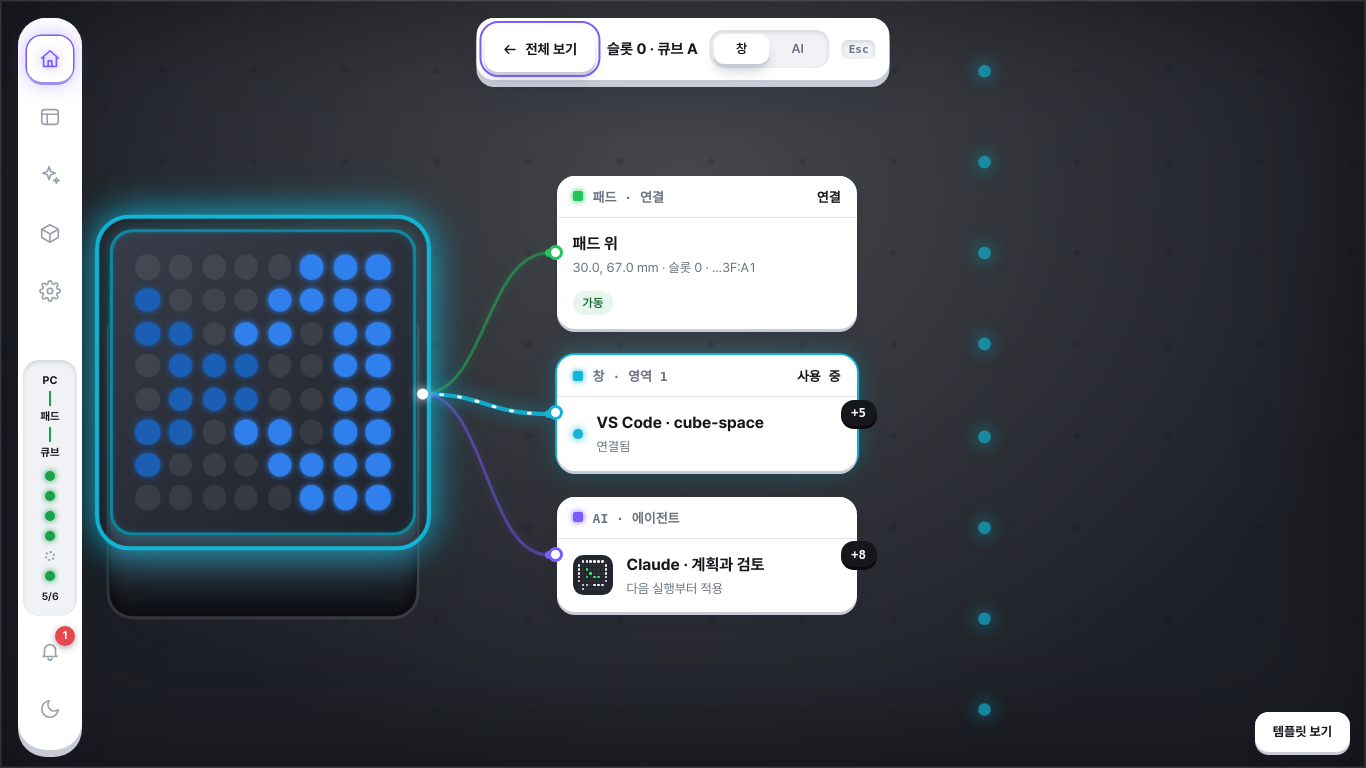
Test case: 홈: ?cube= 로 큐브를 확대하고, 전체 보기로 돌아간다
Expected: the heading "슬롯 0 · 큐브 A" is shown, [607,38,698,60]
Click the button "전체 보기": (540, 49) [484,26,595,72]
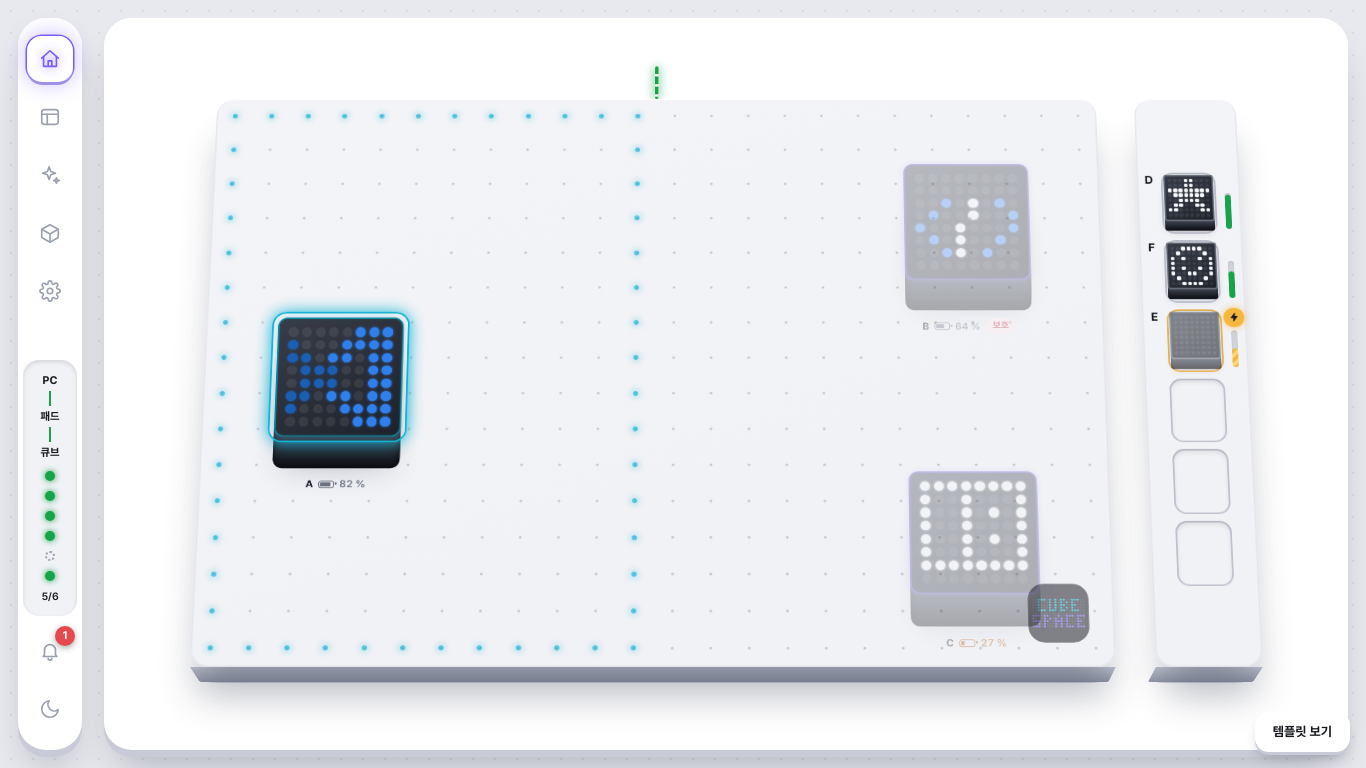
Result: the heading "슬롯 0 · 큐브 A" is gone
